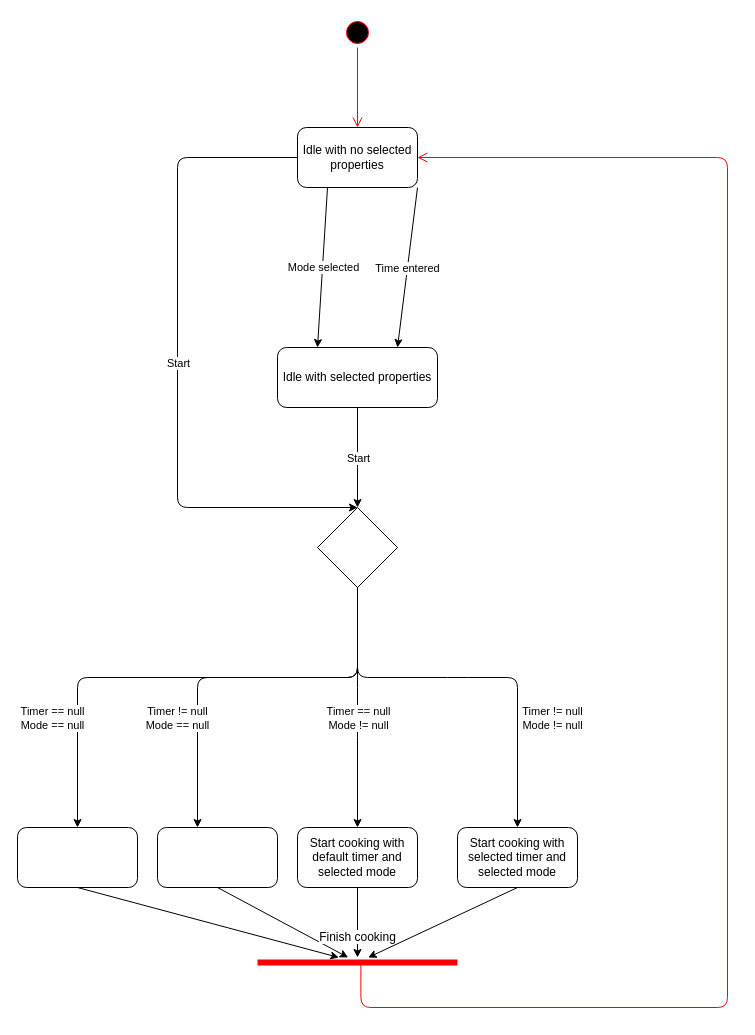
The diagram is 755 pixels wide and 1035 high, and some of its shapes have lost their labels. The shapes that lost their labels are listed below. From the top down, each one's centre as x and y in pixels, then its label:
[77,857]: Start cooking with default timer and default mode
[217,857]: Start cooking with selected timer and default mode
